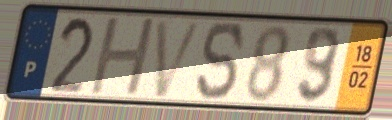2: (46, 14, 99, 95)
8: (244, 22, 294, 105)
9: (294, 24, 340, 108)
H: (86, 15, 159, 98)
S: (194, 19, 247, 103)
V: (151, 17, 207, 100)
